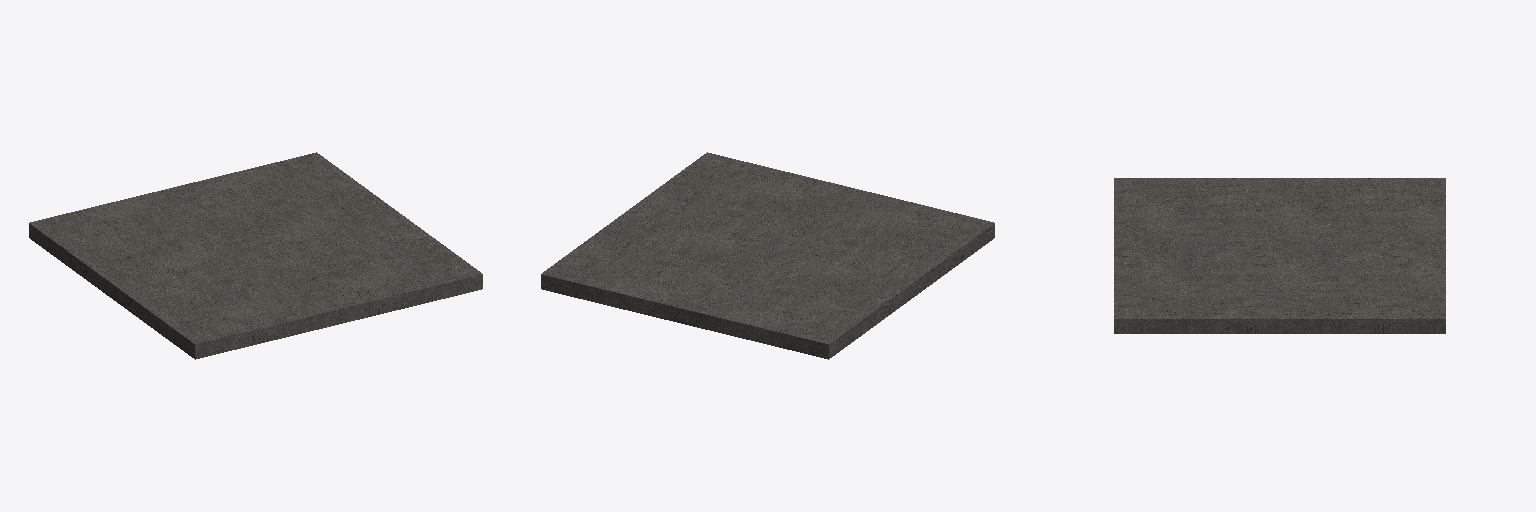
The picture shows the model from 3 angles: view 1: azimuth 30°, elevation 25°; view 2: azimuth 150°, elevation 25°; view 3: azimuth 270°, elevation 25°; orthographic projection.
Visible parts, largest first — view 1: DarkConcrete; view 2: DarkConcrete; view 3: DarkConcrete.
Part boxes in pixels (bbox=[...]): DarkConcrete: bbox=[29, 152, 482, 359]; DarkConcrete: bbox=[541, 152, 994, 359]; DarkConcrete: bbox=[1114, 178, 1445, 333].
Size of the model in its own units: 19.68 by 0.9843 by 19.68.
Materials: 1 (1 with a texture image).